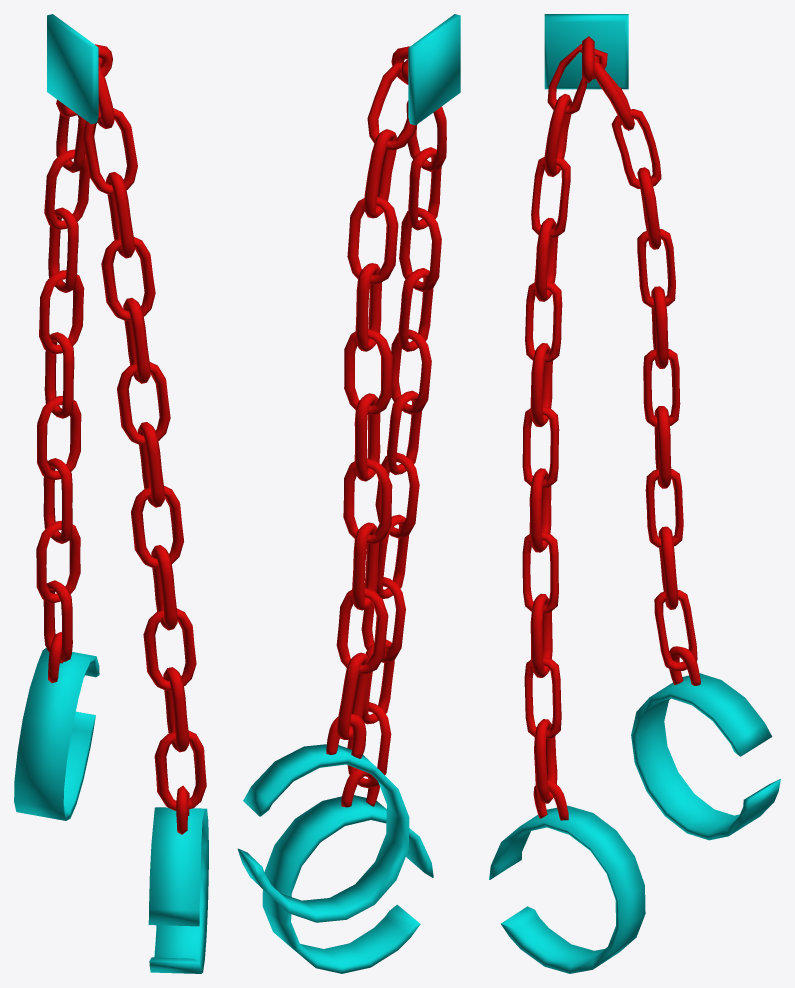
Rendered from SM_schackles.fbx.
3 views of the same model, side by side, from view 1: azimuth 30°, elevation 25°; view 2: azimuth 150°, elevation 25°; view 3: azimuth 270°, elevation 25° (orthographic). The views are drawn at different scales.
Parts seen in each view (by area): view 1: Shackles.001; view 2: Shackles.001; view 3: Shackles.001.
Boxes of the visible parts, x1,y1,x2,y2 form: Shackles.001: [14, 14, 208, 973]; Shackles.001: [237, 14, 460, 973]; Shackles.001: [489, 14, 780, 973].
Bounding box in the file's own units: 24.64 × 132 × 38.81.
